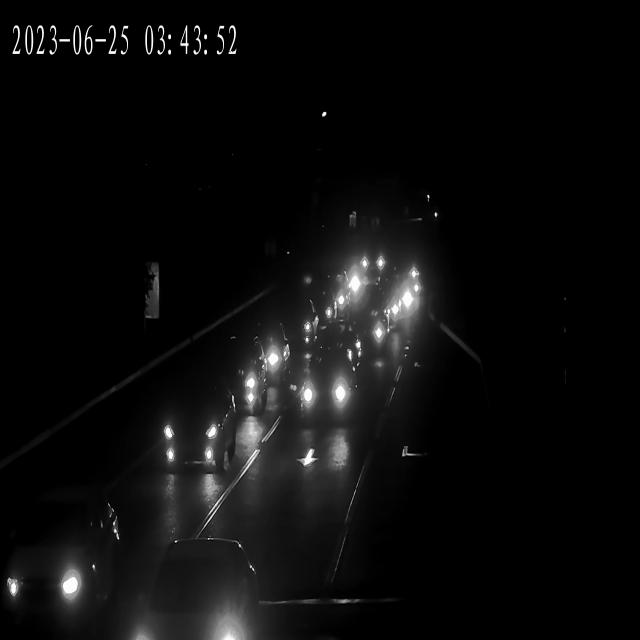Car: (0, 479, 118, 640), (130, 540, 256, 638), (152, 378, 239, 475), (186, 347, 276, 419), (288, 357, 357, 421), (233, 322, 294, 384), (368, 275, 417, 324), (276, 305, 318, 359), (302, 277, 336, 327), (325, 270, 355, 318), (347, 244, 389, 276), (339, 329, 364, 380)
